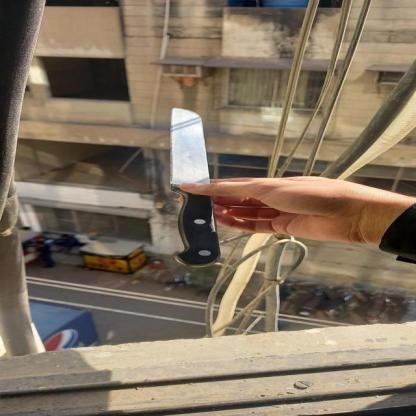Knife: (154, 100, 230, 276)
